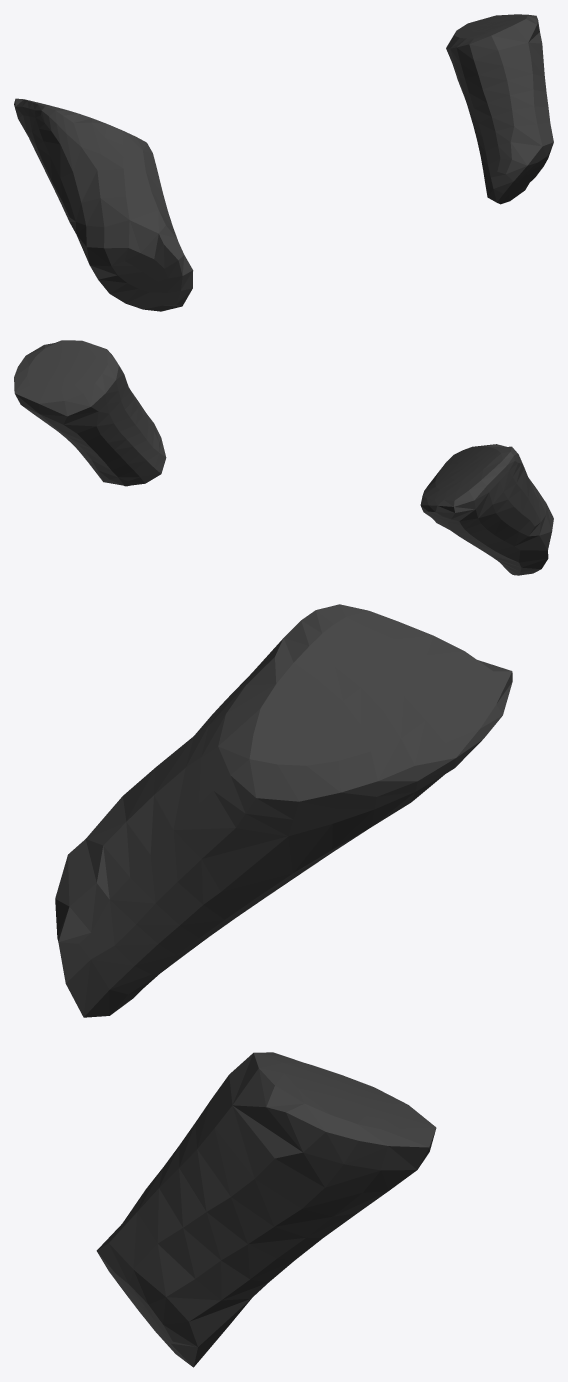
The model's file is Shor_ses_L.glb.
3 views of the same model, one above another, from view 1: azimuth 30°, elevation 25°; view 2: azimuth 150°, elevation 25°; view 3: azimuth 270°, elevation 25° (orthographic). The views are drawn at different scales.
Parts seen in each view (by area): view 1: Shor_ses_L; view 2: Shor_ses_L; view 3: Shor_ses_L.
Boxes of the visible parts, <box> form: Shor_ses_L: <box>14,14,553,311</box>; Shor_ses_L: <box>14,340,553,575</box>; Shor_ses_L: <box>55,604,512,1367</box>.
Size of the model in its own units: 1.34 by 0.4595 by 0.5376.
Materials: 1 (1 with a texture image).
